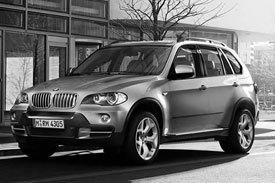car: (3, 31, 273, 176)
